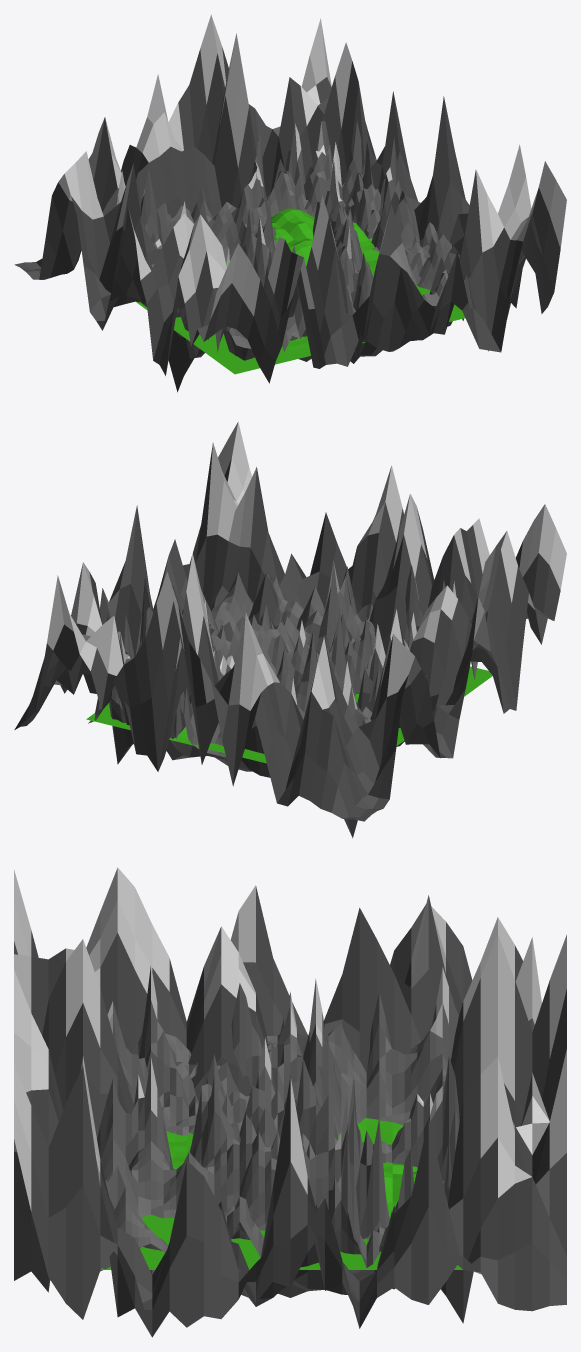
File: LandScape2.fbx
3 views of the same model, one above another, from view 1: azimuth 30°, elevation 25°; view 2: azimuth 150°, elevation 25°; view 3: azimuth 270°, elevation 25° (orthographic). The views are drawn at different scales.
Parts seen in each view (by area): view 1: Plane.003, Plane.002, Plane.001; view 2: Plane.003, Plane.002, Plane.001; view 3: Plane.003, Plane.002, Plane.001.
Boxes of the visible parts, x1,y1,x2,y2 form: Plane.003: (14, 14, 566, 392); Plane.002: (115, 120, 451, 352); Plane.001: (136, 208, 464, 374); Plane.003: (14, 422, 566, 838); Plane.002: (88, 560, 477, 757); Plane.001: (86, 666, 492, 763); Plane.003: (14, 867, 566, 1337); Plane.002: (97, 965, 481, 1274); Plane.001: (101, 1118, 462, 1269).
Bounding box in the file's own units: 58604 × 47296 × 58604.
